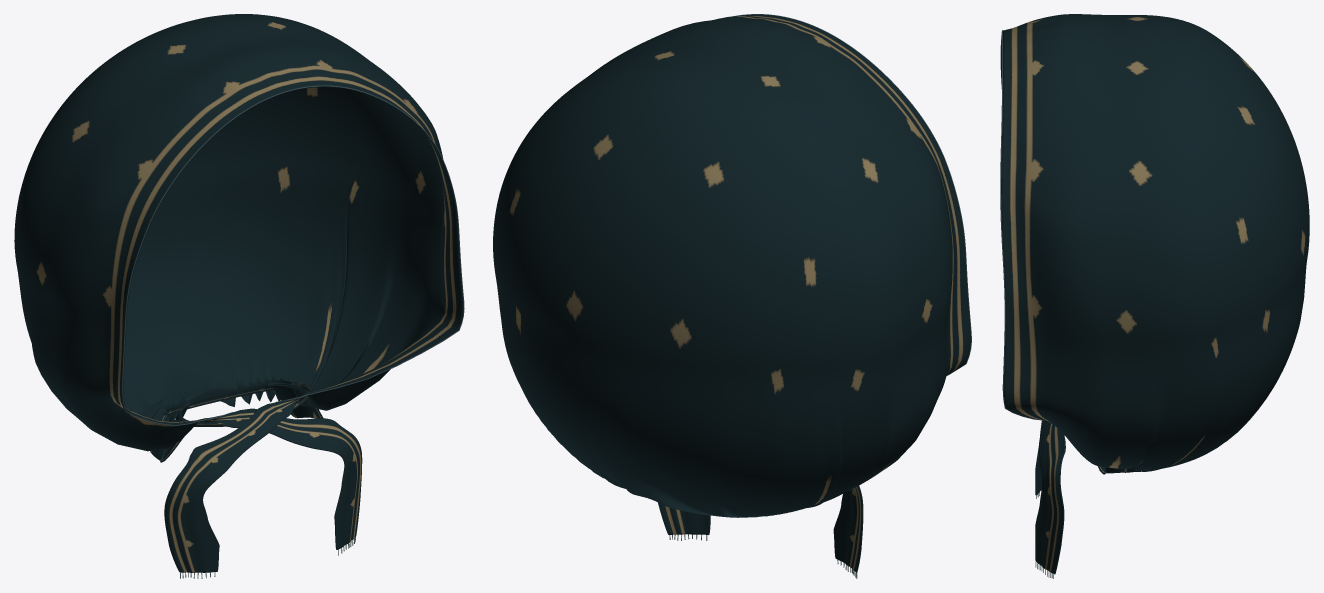
Rendered from Masculine-flow-buttonup-pashmina250-headgear.glb.
3 renders of one model, left to right at view 1: azimuth 30°, elevation 25°; view 2: azimuth 150°, elevation 25°; view 3: azimuth 270°, elevation 25°, orthographic. The views are drawn at different scales.
Visible parts, largest first — view 1: 226 headgear / Headwear / continuous woven pashmina239, 226 headgear / Headwear / face edge239; view 2: 226 headgear / Headwear / continuous woven pashmina239, 226 headgear / Headwear / face edge239; view 3: 226 headgear / Headwear / continuous woven pashmina239, 226 headgear / Headwear / face edge239.
Part boxes in pixels (<box>): 226 headgear / Headwear / continuous woven pashmina239: <box>14,14,463,572</box>; 226 headgear / Headwear / face edge239: <box>122,85,464,426</box>; 226 headgear / Headwear / continuous woven pashmina239: <box>493,14,970,572</box>; 226 headgear / Headwear / face edge239: <box>732,14,971,375</box>; 226 headgear / Headwear / continuous woven pashmina239: <box>1001,14,1309,574</box>; 226 headgear / Headwear / face edge239: <box>1000,30,1039,420</box>.
Size of the model in its own units: 1.1 by 1.4 by 0.7763.
3 materials, 1 textured.
